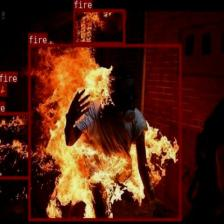fire: (28, 44, 181, 220), (0, 112, 30, 178), (72, 8, 124, 45), (0, 81, 6, 95)
